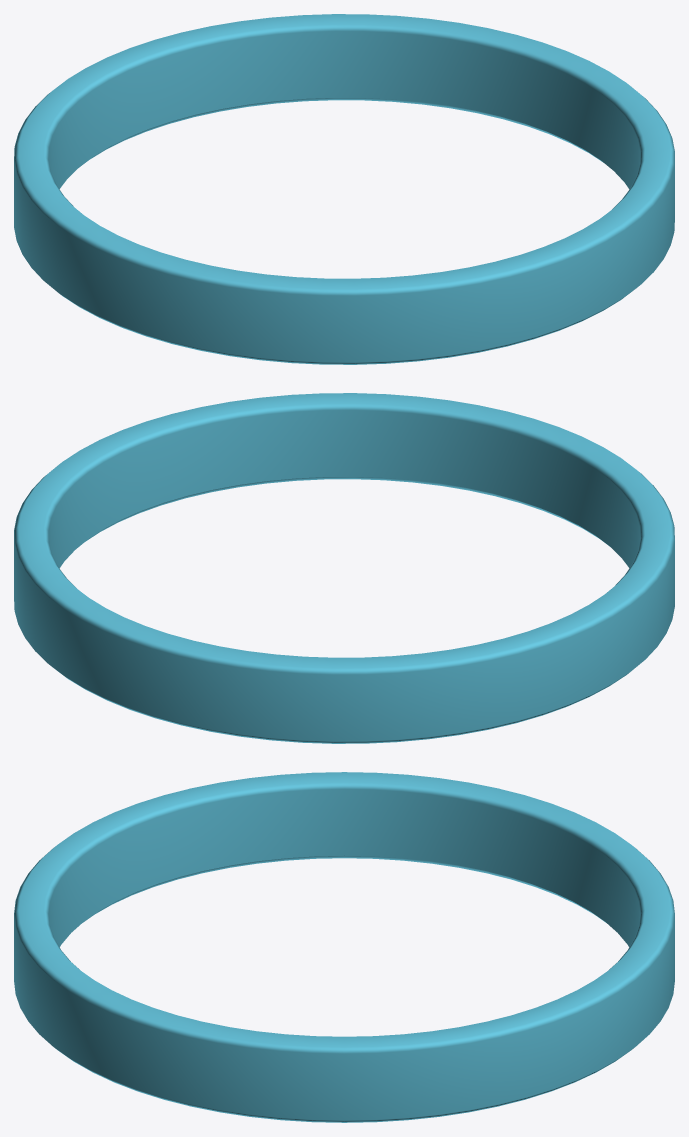
The picture shows the model from 3 angles, top to bottom: view 1: azimuth 30°, elevation 25°; view 2: azimuth 150°, elevation 25°; view 3: azimuth 270°, elevation 25°; orthographic projection.
Parts seen in each view (by area): view 1: seal_body; view 2: seal_body; view 3: seal_body.
Boxes of the visible parts, x1=… form: seal_body: x1=14, y1=14, x2=674, y2=364; seal_body: x1=14, y1=393, x2=674, y2=743; seal_body: x1=14, y1=772, x2=674, y2=1122.
Size of the model in its own units: 0.095 by 0.012 by 0.095.
